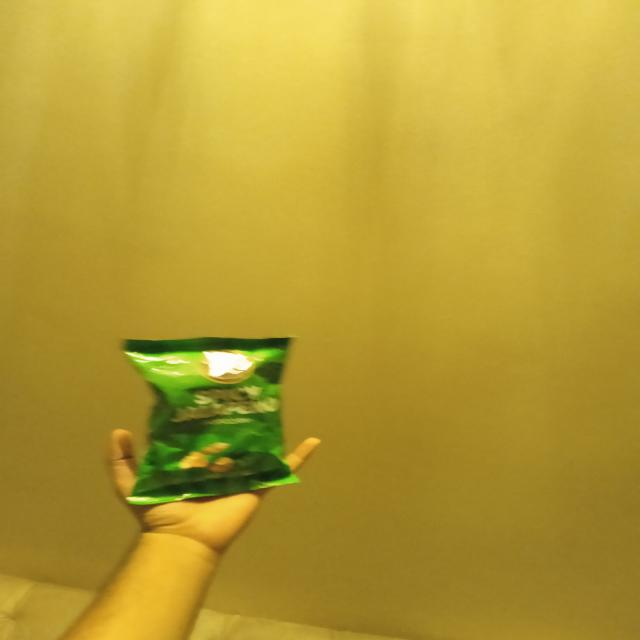Plastic: (131, 338, 287, 492)
